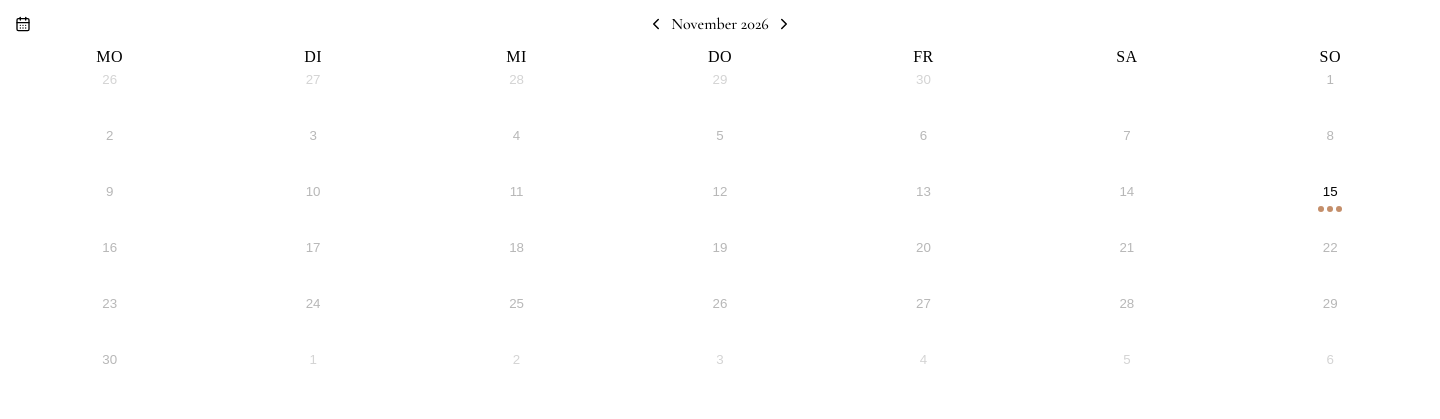
Test: Calendar › Day popover › closes popover when close button clicked
The image size is (1440, 419).
Click the button with class "has-events".
click(1330, 206)  # box [1229, 178, 1432, 234]
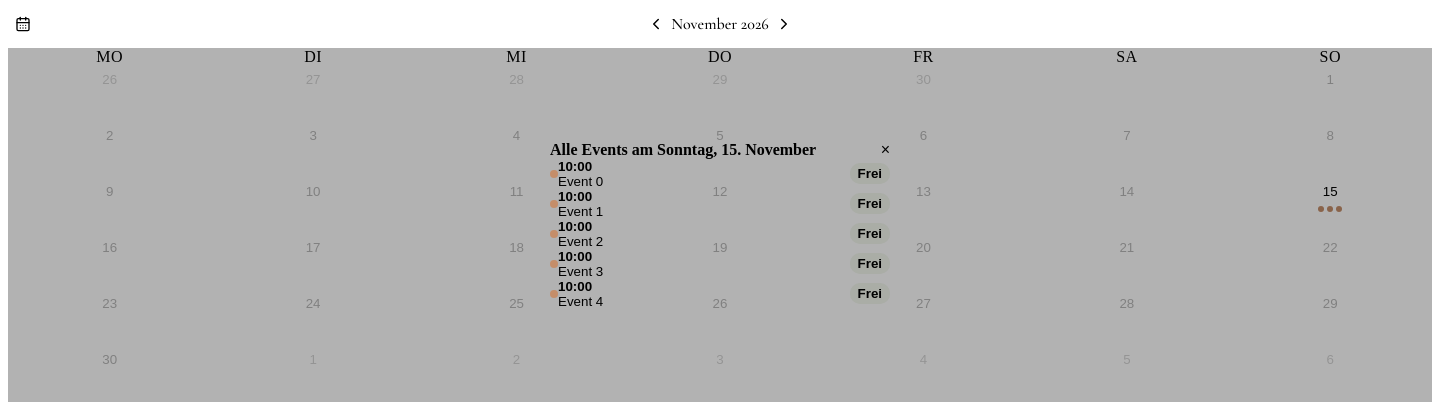
Expected: the text "Alle Events am Sonntag, 15. November" is shown, [550, 140, 816, 158]
Click the button "×".
click(885, 150)  # box [881, 142, 890, 158]
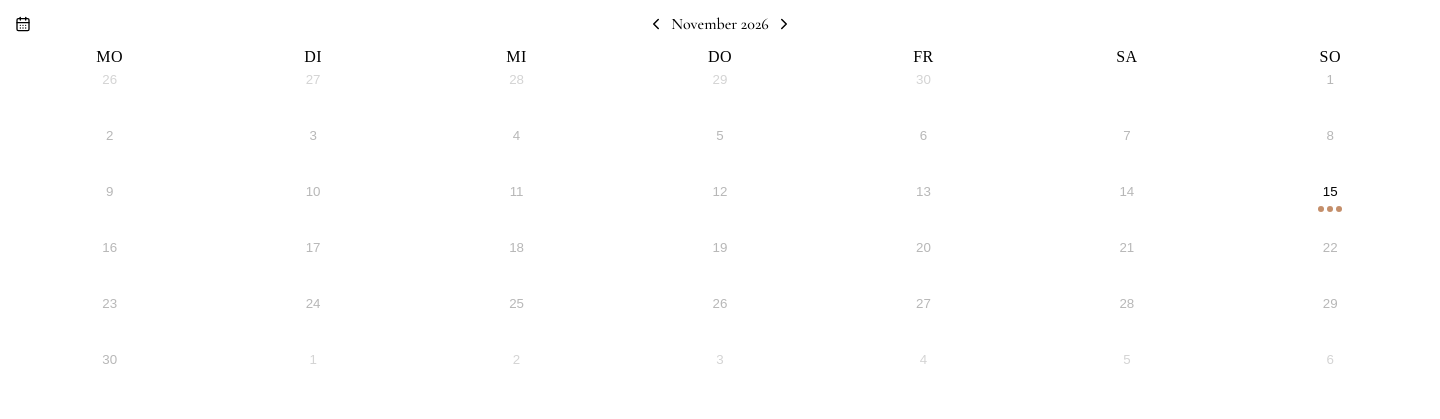
Expected: the text "Alle Events am" is gone
